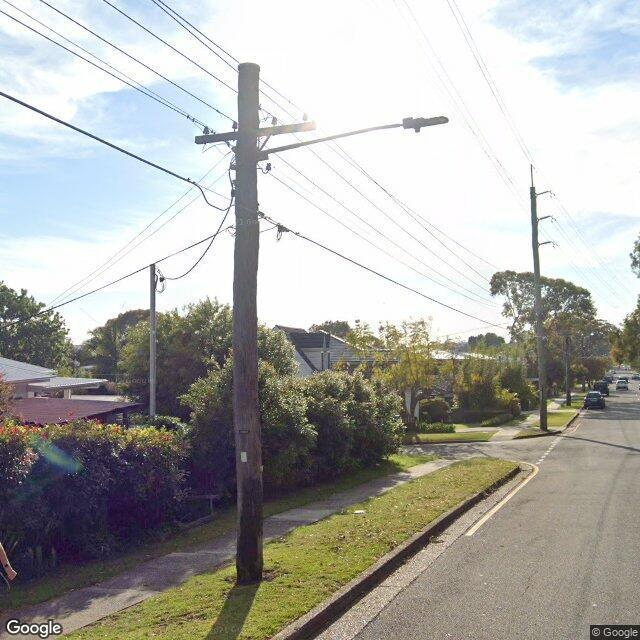HV-transmission: (530, 164, 560, 248)
crossarm: (194, 110, 318, 145)
steel-pole: (149, 261, 158, 424)
streetlight: (257, 114, 449, 160)
timber-pole: (236, 62, 264, 585), (530, 187, 547, 431)
